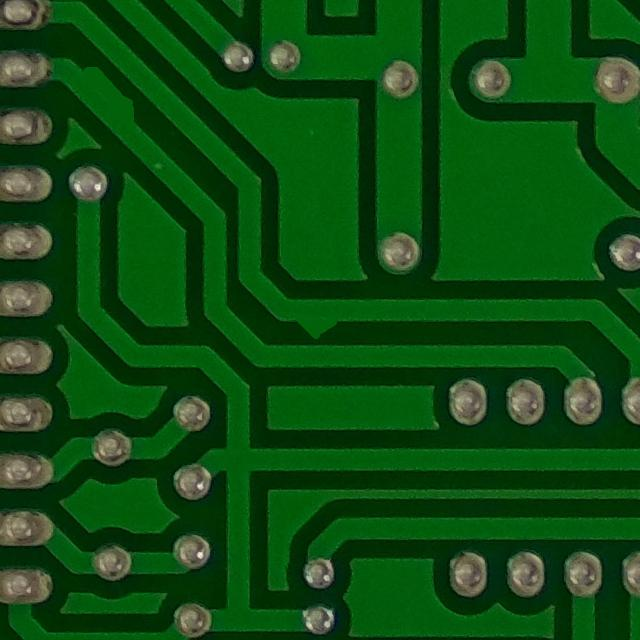spur: (283, 292, 358, 348)
